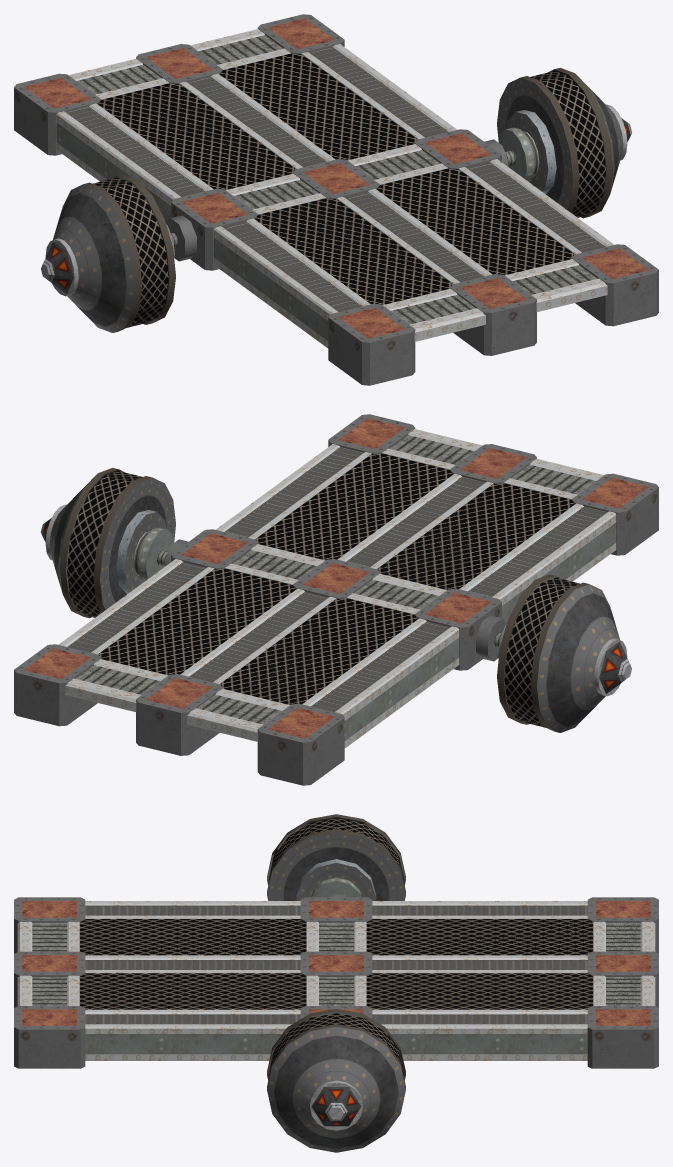
File: Ob_GrindPlatform_RC.fbx
3 renders of one model, top to bottom at view 1: azimuth 30°, elevation 25°; view 2: azimuth 150°, elevation 25°; view 3: azimuth 270°, elevation 25°, orthographic. The views are drawn at different scales.
Parts seen in each view (by area): view 1: w02_obj_grindfloor.001; view 2: w02_obj_grindfloor.001; view 3: w02_obj_grindfloor.001.
Boxes of the visible parts, x1=… form: w02_obj_grindfloor.001: x1=14, y1=14, x2=658, y2=385; w02_obj_grindfloor.001: x1=14, y1=414, x2=658, y2=785; w02_obj_grindfloor.001: x1=14, y1=814, x2=658, y2=1152.
Bounding box in the file's own units: 1436 × 325 × 1507.
